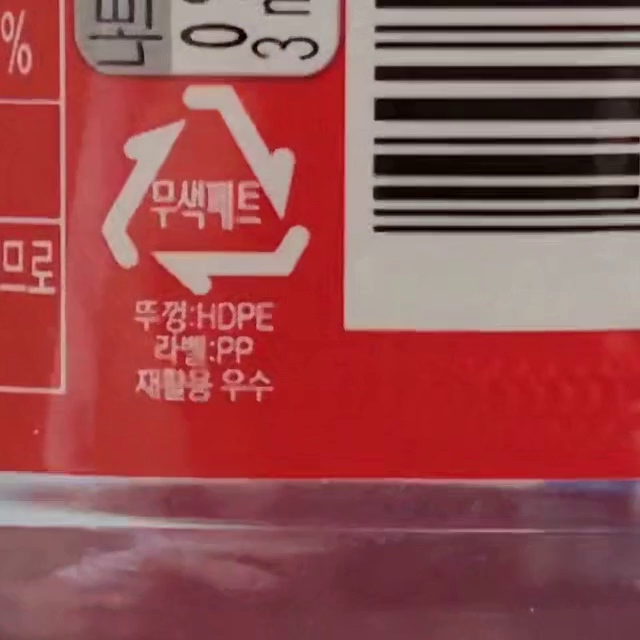ColorlessPet: (96, 82, 312, 296)
